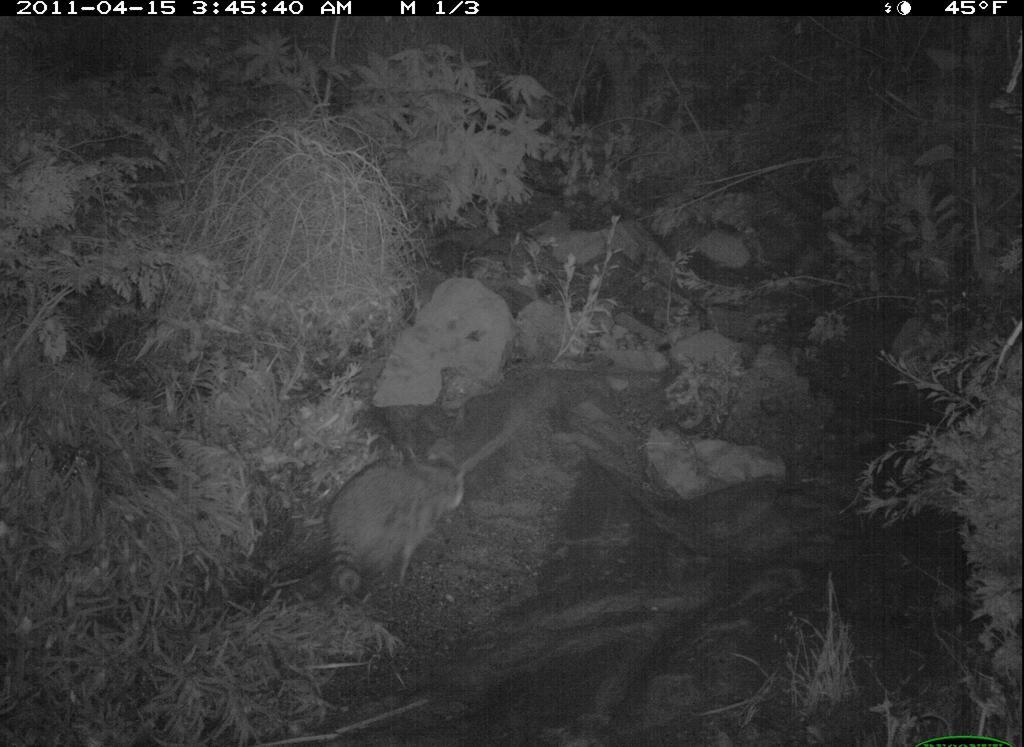raccoon: (297, 438, 488, 620)
